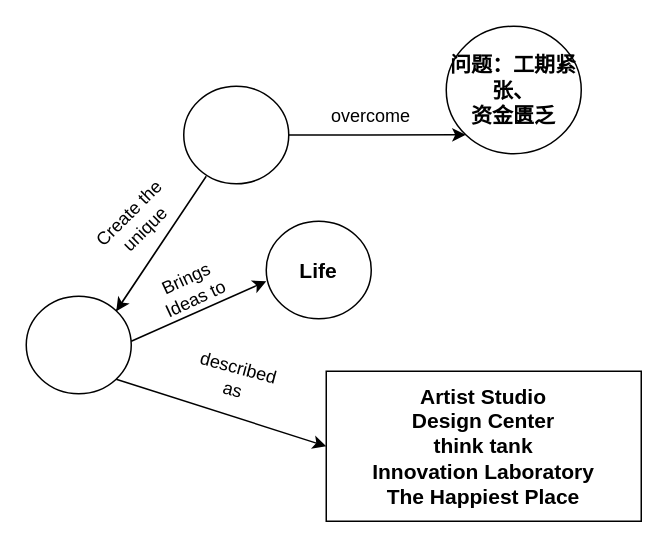
Image size: 668x548. Some labels were removed from this diagram. Each missing label, with the centre of its shape:
"Disney" goes at point 78,344.
"怪才Team" goes at point 235,134.
